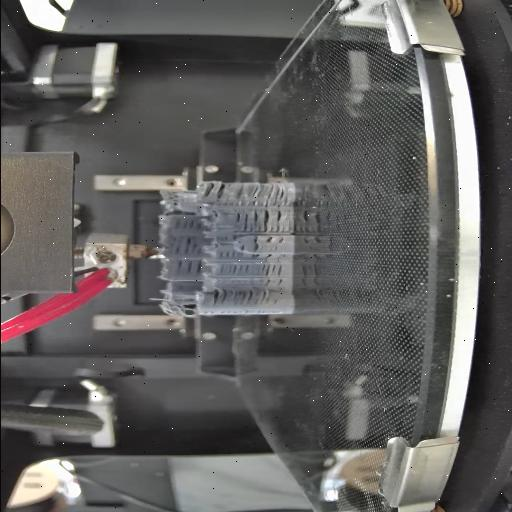cracks: (238, 182, 290, 208), (208, 288, 266, 307), (254, 210, 292, 232), (256, 264, 284, 286), (172, 237, 202, 257), (200, 182, 224, 204), (215, 264, 249, 278), (174, 258, 200, 276), (173, 218, 202, 232), (234, 212, 250, 234), (214, 234, 236, 244), (250, 254, 286, 260), (264, 235, 284, 245), (250, 237, 260, 254), (215, 251, 235, 259), (236, 242, 244, 252)
